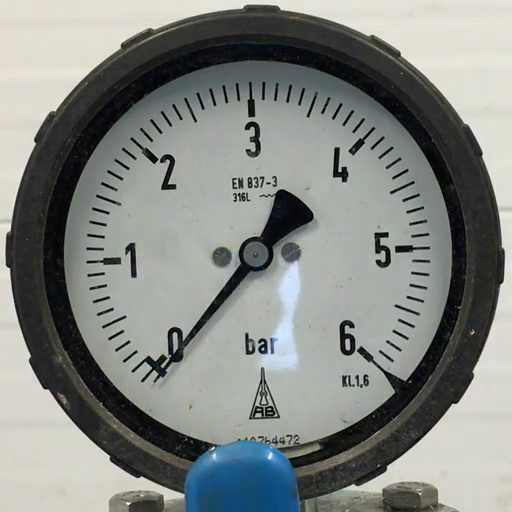base: (236, 235, 274, 273)
circle_plate: (63, 57, 467, 448)
maximum: (357, 345, 374, 362)
minimum: (141, 354, 168, 383)
number: (369, 226, 395, 271), (240, 116, 265, 161), (153, 150, 179, 193), (326, 142, 352, 184), (337, 315, 359, 356), (120, 239, 139, 283), (165, 323, 185, 364)
tip: (151, 377, 159, 384)
